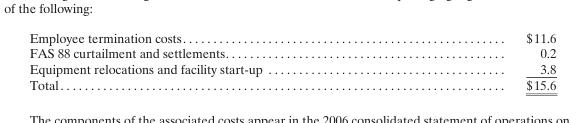table: (28, 29, 555, 92)
table column: (28, 29, 393, 92), (393, 29, 555, 92)
table row: (28, 44, 555, 60), (28, 60, 555, 76), (28, 76, 555, 92), (28, 29, 555, 44)
